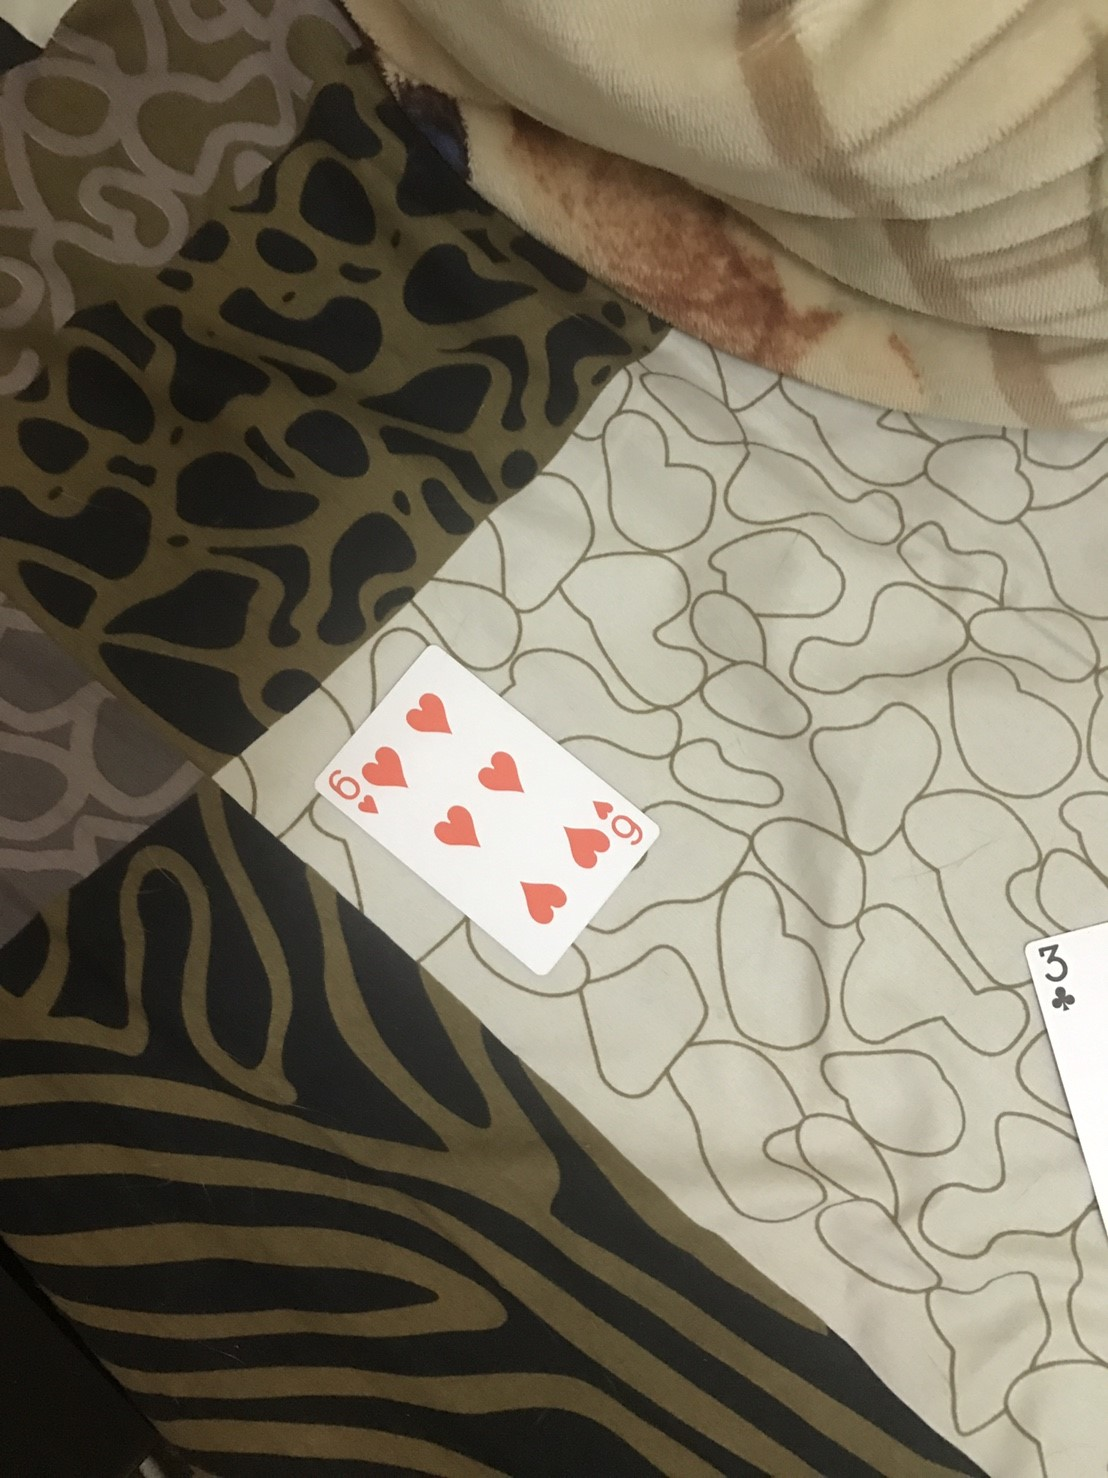clubs: (1051, 983, 1080, 1018)
hearts: (429, 800, 493, 859), (561, 819, 620, 881), (514, 873, 578, 926), (349, 742, 416, 793), (406, 688, 463, 738), (480, 749, 530, 800), (589, 793, 618, 826), (355, 790, 384, 819)
